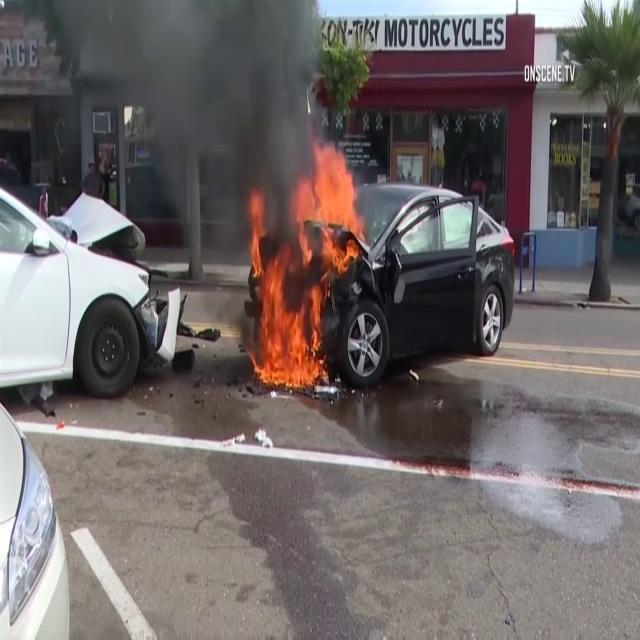Fire: (244, 139, 354, 389)
Smoke: (107, 5, 352, 236)
